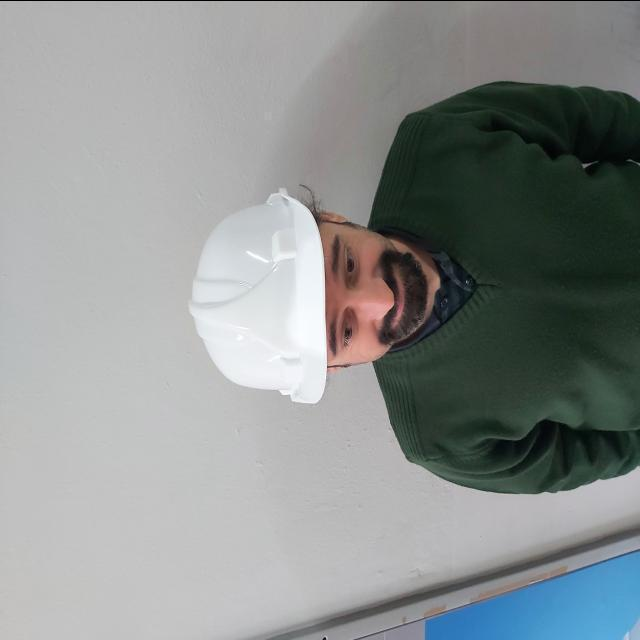helmet: (189, 191, 326, 403)
